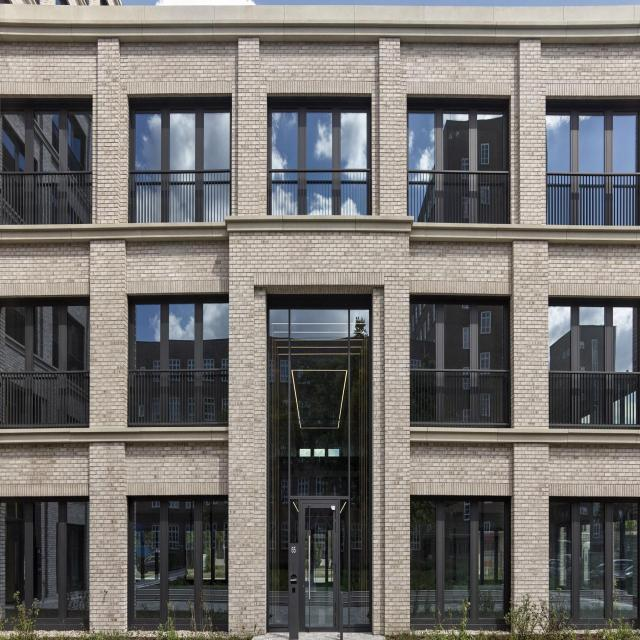Railing: (408, 168, 509, 225), (414, 370, 515, 427), (128, 170, 228, 223), (546, 172, 640, 226), (546, 370, 640, 424), (269, 169, 370, 217), (130, 376, 226, 424), (1, 172, 91, 222), (0, 374, 88, 425)
door: (299, 495, 342, 634)
wall: (0, 3, 640, 634)
windows: (265, 299, 374, 637), (410, 496, 511, 626), (130, 500, 230, 630), (0, 496, 89, 629), (550, 500, 640, 628), (268, 100, 370, 172), (131, 302, 228, 373), (410, 301, 513, 367), (130, 100, 229, 168), (407, 103, 509, 169), (545, 105, 640, 172), (1, 104, 93, 170), (549, 302, 640, 368), (0, 302, 87, 369)
